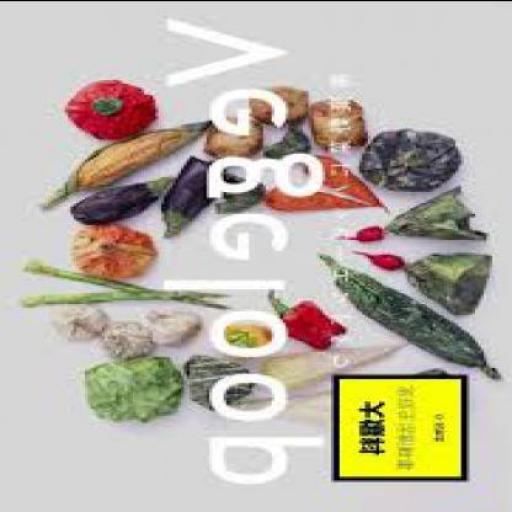paper: (317, 251, 498, 377), (37, 118, 209, 208), (14, 260, 224, 308), (254, 339, 402, 391), (356, 127, 461, 188), (82, 354, 175, 420), (62, 78, 156, 139), (382, 184, 487, 238), (405, 248, 492, 312), (156, 151, 212, 234), (294, 147, 379, 201), (68, 176, 172, 220), (263, 288, 340, 347), (68, 223, 152, 277), (181, 354, 252, 408), (306, 94, 367, 150), (16, 282, 224, 298), (263, 182, 379, 206), (198, 113, 257, 153), (94, 317, 152, 356), (46, 301, 104, 338), (260, 120, 311, 162), (249, 84, 305, 122), (212, 169, 260, 211), (144, 308, 201, 343), (351, 246, 405, 268), (223, 322, 263, 344), (334, 224, 382, 242), (411, 361, 435, 371)
